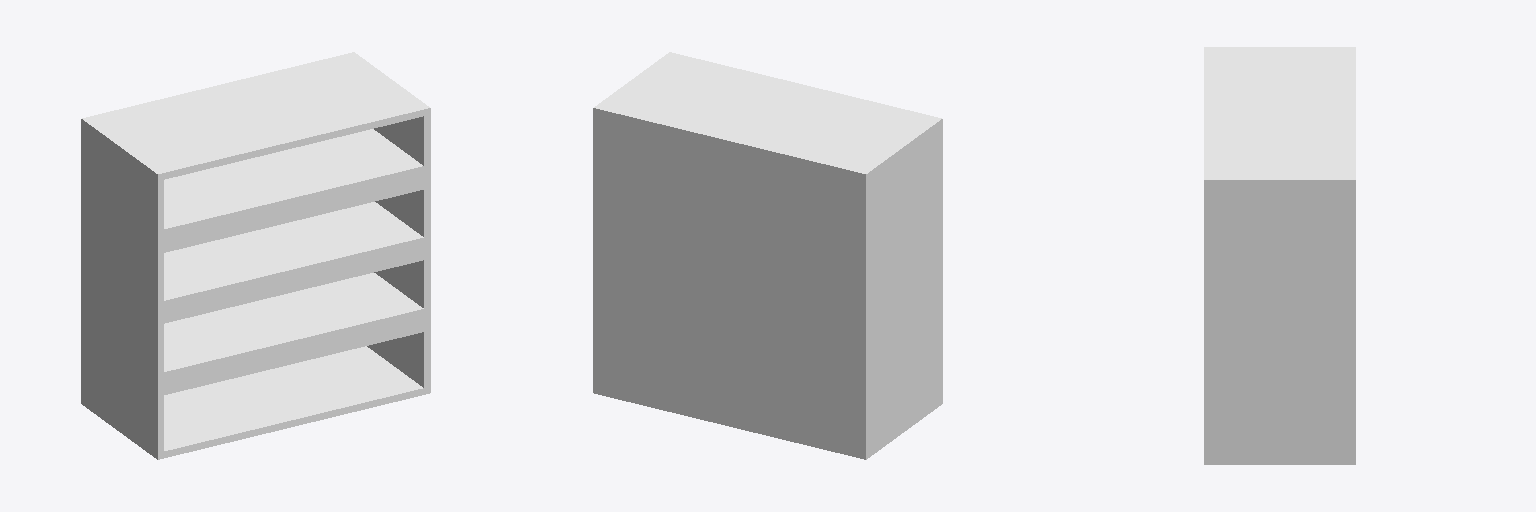
Rendered from shelf.obj.
The picture shows the model from 3 angles: view 1: azimuth 30°, elevation 25°; view 2: azimuth 150°, elevation 25°; view 3: azimuth 270°, elevation 25°; orthographic projection.
Parts seen in each view (by area): view 1: Cube; view 2: Cube; view 3: Cube.
Part boxes in pixels (bbox=[...]): Cube: bbox=[81, 52, 430, 459]; Cube: bbox=[593, 52, 942, 459]; Cube: bbox=[1204, 47, 1355, 464].
Size of the model in its own units: 2 by 2 by 0.9691.